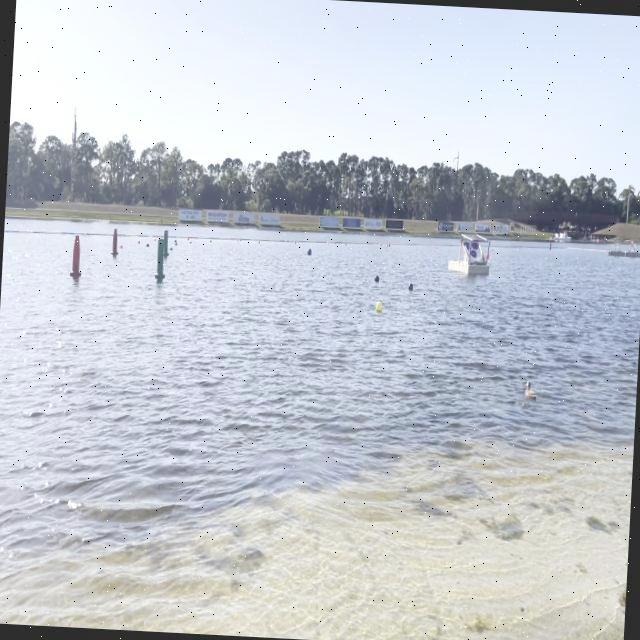buoy: (376, 302, 383, 312), (408, 283, 414, 291), (374, 276, 380, 284)
